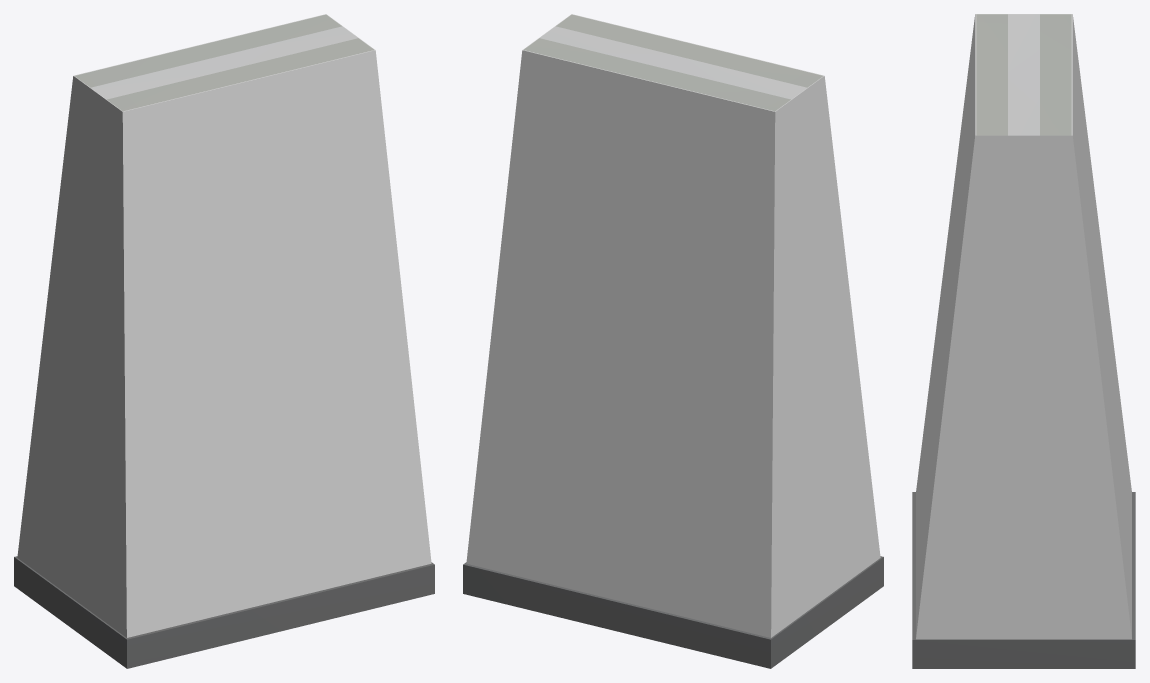
File: Banner01_B1_1_01.FBX
3 renders of one model, left to right at view 1: azimuth 30°, elevation 25°; view 2: azimuth 150°, elevation 25°; view 3: azimuth 270°, elevation 25°, orthographic.
Parts seen in each view (by area): view 1: Banner01_B1_Damage_1_01, Banner01_B1_Live_1_01; view 2: Banner01_B1_Damage_1_01, Banner01_B1_Live_1_01; view 3: Banner01_B1_Damage_1_01, Banner01_B1_Live_1_01.
Part boxes in pixels (x1,y1,x2,y2): Banner01_B1_Damage_1_01: (17, 14, 431, 637); Banner01_B1_Live_1_01: (14, 14, 434, 668); Banner01_B1_Damage_1_01: (466, 14, 880, 637); Banner01_B1_Live_1_01: (463, 14, 883, 668); Banner01_B1_Damage_1_01: (916, 14, 1131, 639); Banner01_B1_Live_1_01: (912, 14, 1135, 668).
Size of the model in its own units: 0.8382 by 1.37 by 0.5334.
